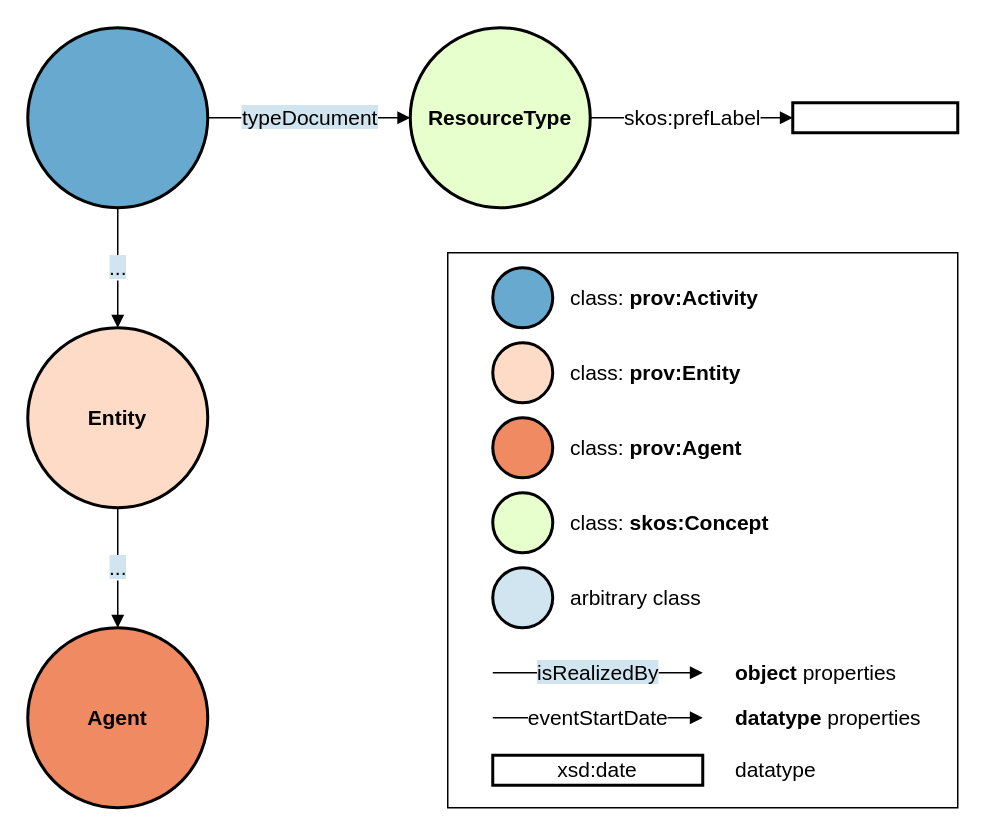
This 984x834 diagram has some shape labels left out. Here are the shapes that lost their labels. From the top down, the box of each, then its label:
(26, 26, 208, 208): Activity
(790, 100, 958, 134): rdf:langString
